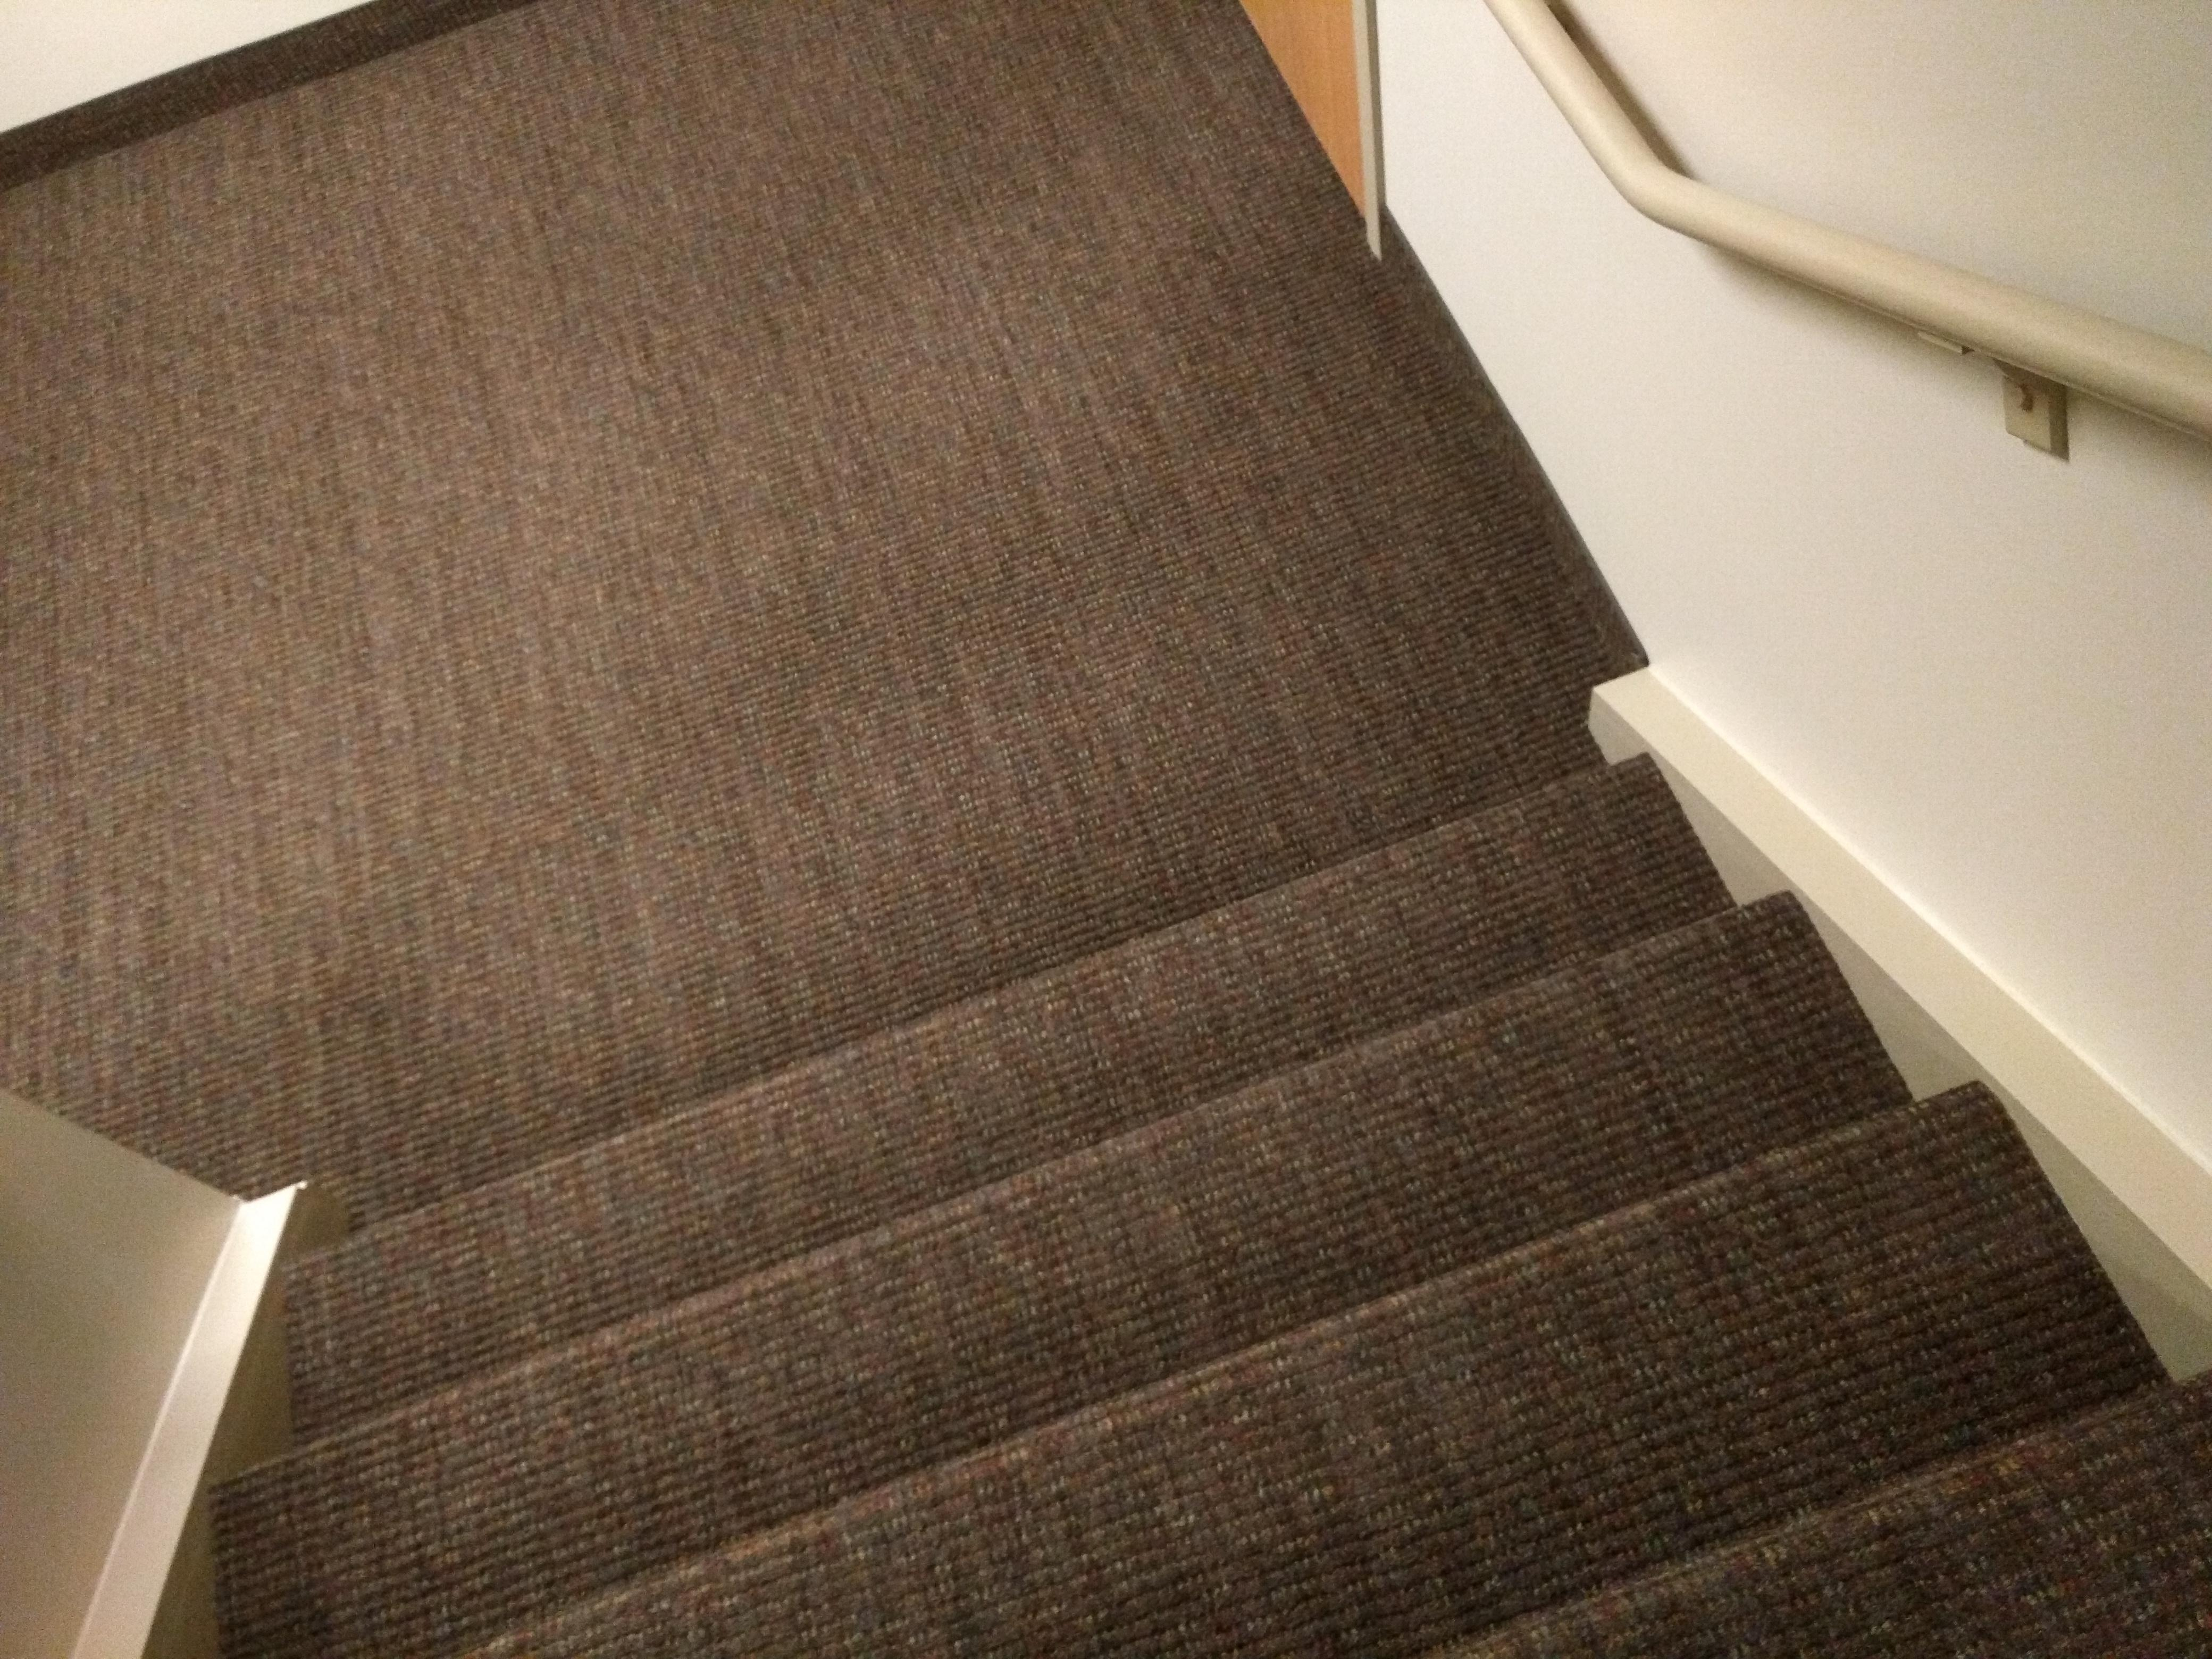stairs_down: (216, 775, 2170, 1605)
